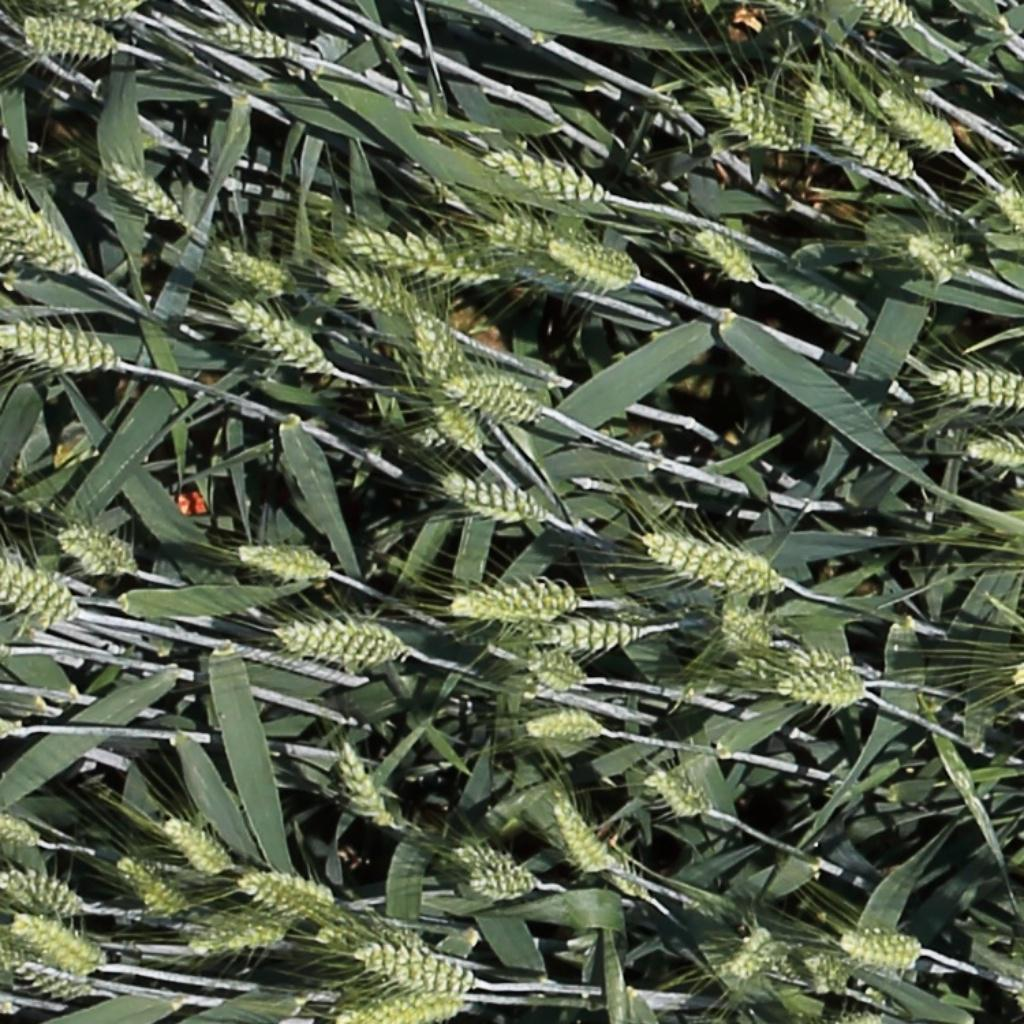0-0: (802, 84, 912, 180), (344, 230, 500, 287), (0, 185, 81, 276), (229, 299, 327, 374), (645, 536, 778, 591), (483, 148, 609, 204), (353, 939, 472, 993), (448, 580, 582, 627), (705, 84, 792, 156), (311, 923, 440, 971), (330, 740, 394, 836), (0, 325, 114, 377), (275, 620, 404, 664), (102, 159, 185, 226), (877, 88, 956, 157), (235, 870, 340, 921), (21, 13, 123, 64), (547, 795, 608, 880), (506, 614, 642, 652), (545, 238, 639, 292), (0, 558, 76, 622), (756, 644, 860, 690), (439, 475, 544, 520), (8, 918, 101, 968), (416, 305, 468, 390), (831, 923, 923, 971), (113, 858, 185, 918), (2, 948, 86, 999), (324, 267, 413, 315), (340, 990, 465, 1024), (457, 848, 533, 902), (723, 928, 794, 984), (159, 819, 228, 876), (931, 370, 1024, 410), (446, 379, 536, 420), (55, 529, 135, 574), (1, 871, 79, 917), (693, 226, 757, 282), (187, 925, 284, 961), (520, 711, 603, 752), (214, 245, 286, 292), (234, 547, 330, 580), (427, 401, 483, 457), (207, 25, 294, 58), (645, 772, 707, 817), (902, 232, 955, 282), (518, 650, 584, 689), (486, 222, 560, 254), (719, 607, 772, 651), (780, 680, 866, 705), (603, 865, 648, 903), (968, 440, 1022, 471), (997, 185, 1024, 239), (862, 0, 916, 27), (0, 815, 39, 849)
